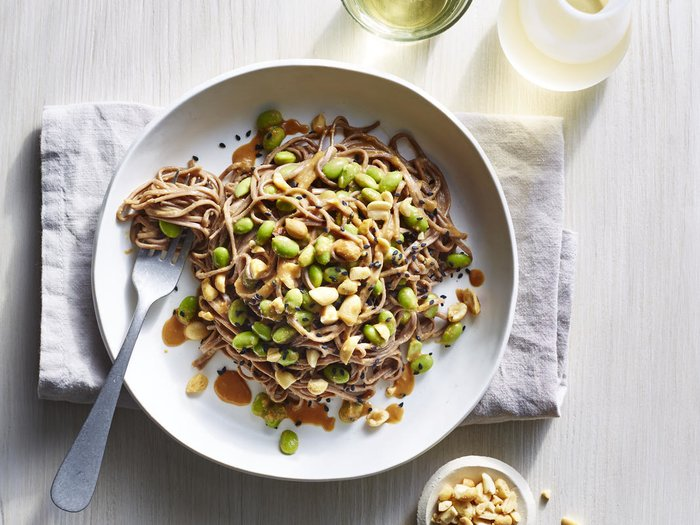Soba: (156, 141, 474, 435)
